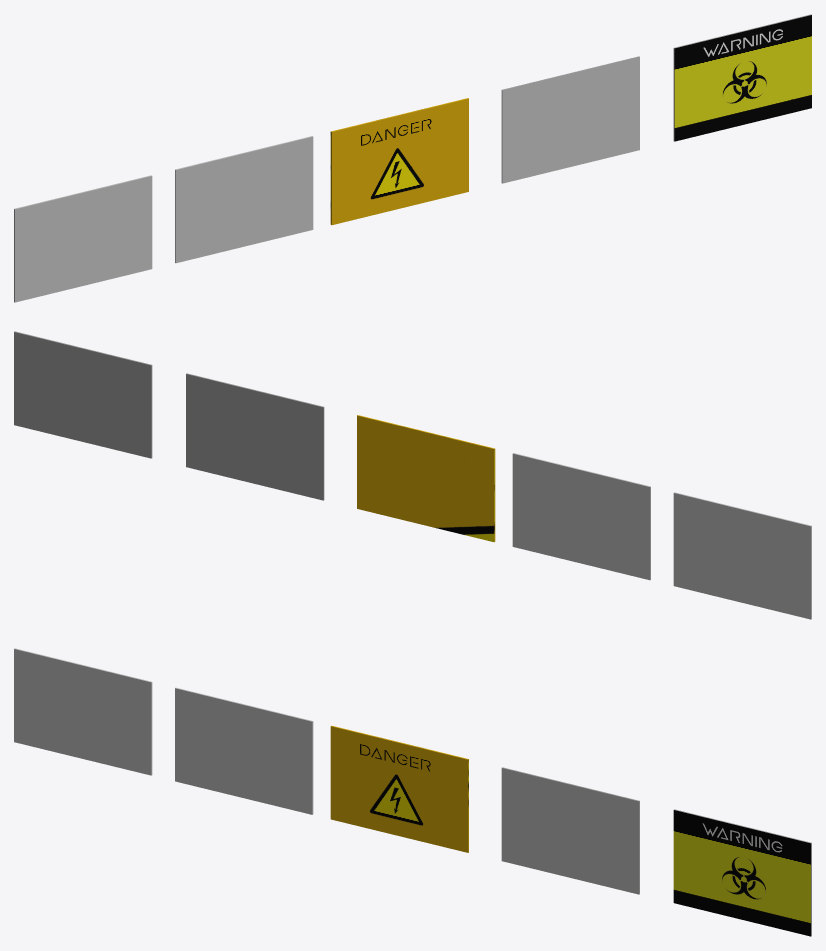
The model's file is big bang.fbx.
3 views of the same model, one above another, from view 1: azimuth 30°, elevation 25°; view 2: azimuth 150°, elevation 25°; view 3: azimuth 330°, elevation 25° (orthographic).
Visible parts, largest first — view 1: pCube4, pCube5, pCube9, pCube8, pCube6; view 2: pCube4, pCube5, pCube9, pCube8, pCube6; view 3: pCube4, pCube5, pCube9, pCube8, pCube6.
Part boxes in pixels (x1,y1,x2,y2): pCube4: [673, 14, 811, 141]; pCube5: [501, 56, 639, 183]; pCube9: [14, 175, 152, 302]; pCube8: [175, 136, 313, 263]; pCube6: [330, 98, 468, 225]; pCube4: [14, 331, 152, 458]; pCube5: [186, 373, 324, 500]; pCube9: [673, 492, 811, 619]; pCube8: [512, 453, 650, 580]; pCube6: [357, 415, 495, 542]; pCube4: [673, 809, 811, 936]; pCube5: [501, 767, 639, 894]; pCube9: [14, 648, 152, 775]; pCube8: [175, 687, 313, 814]; pCube6: [330, 725, 468, 852].
Size of the model in its own units: 5.8 by 0.648 by 0.0105.
